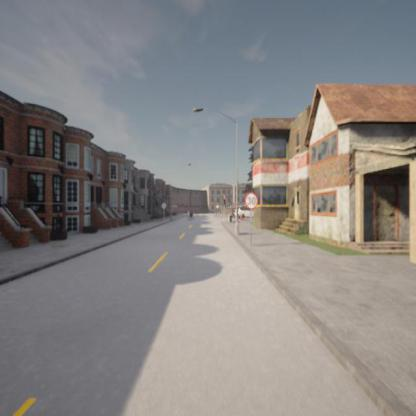traffic_sign_30: (244, 192, 258, 208)
